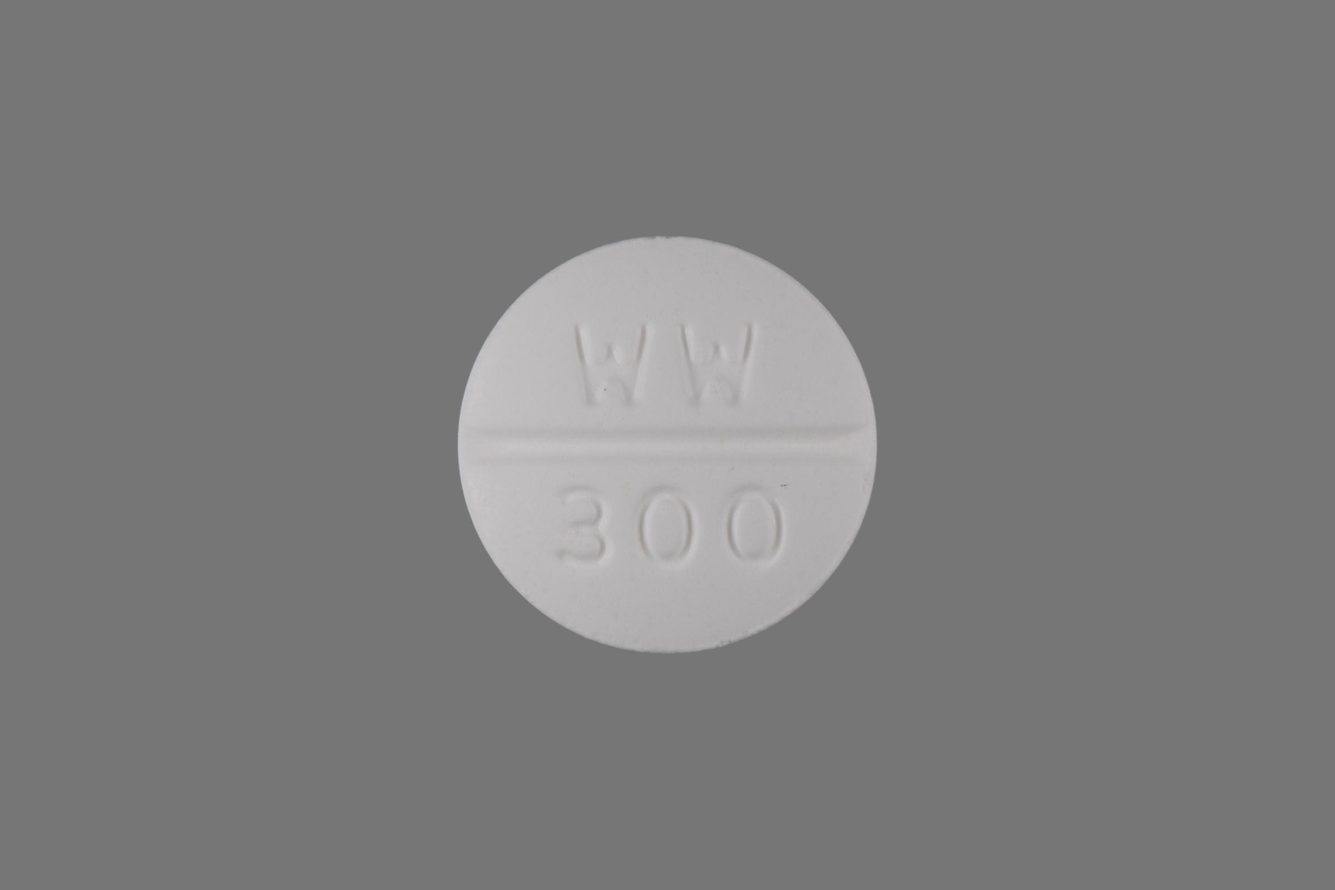Pill: (451, 227, 886, 661)
